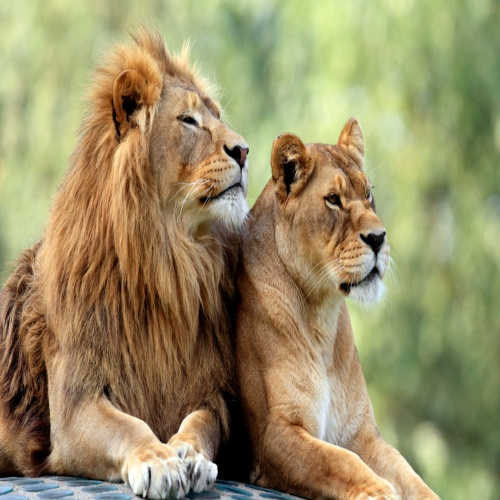lion: (7, 1, 492, 497)
